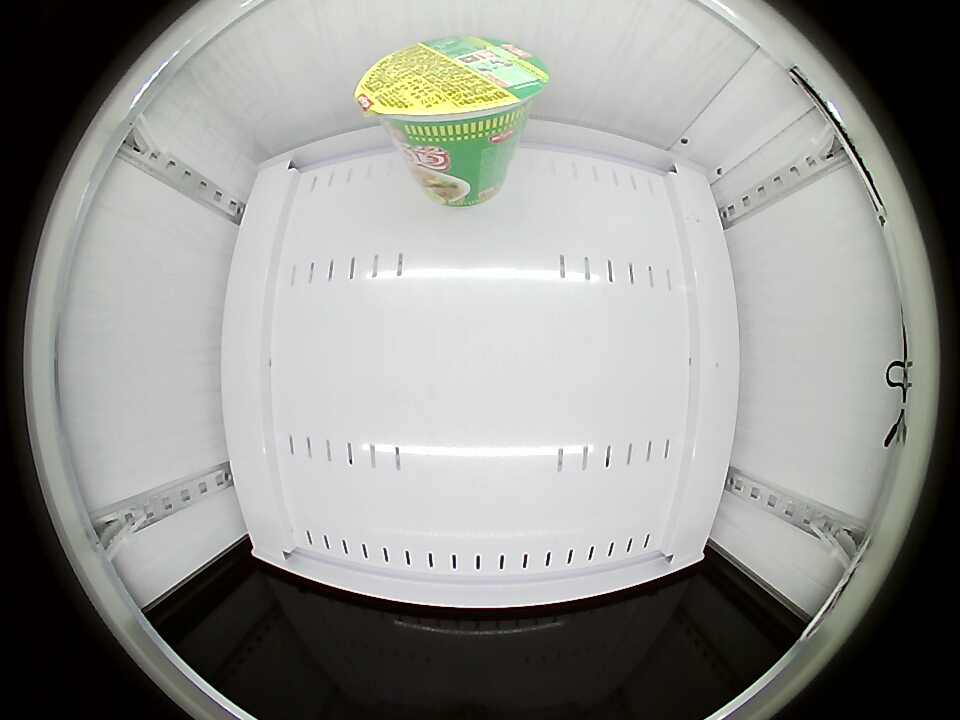heweidao2: (354, 37, 549, 150)
